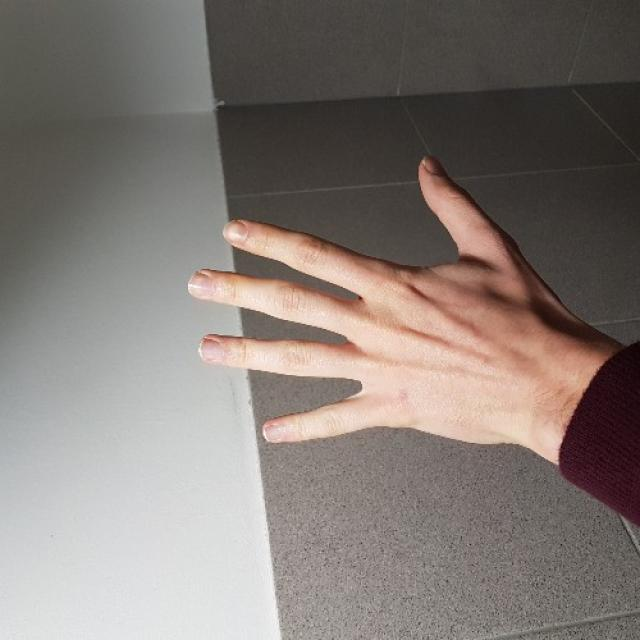paper: (187, 154, 537, 447)
